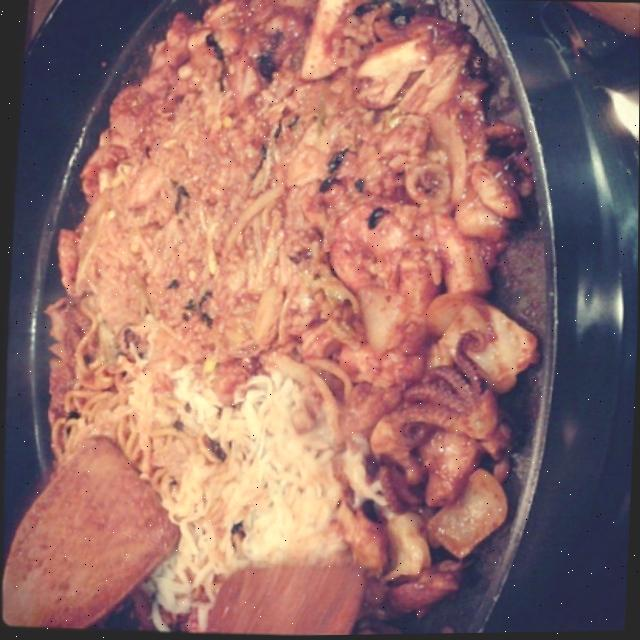鸡肉料理 含炸鸡: (15, 0, 584, 640)
